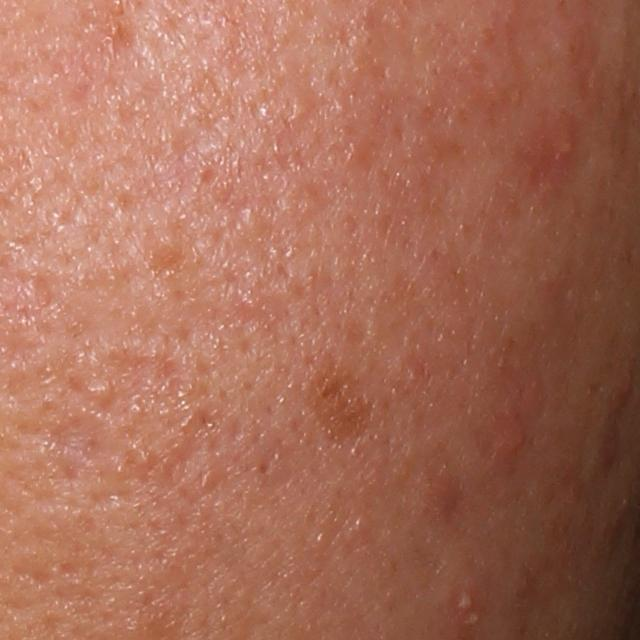papule: (489, 425, 534, 460)
pustule: (446, 577, 487, 629)
